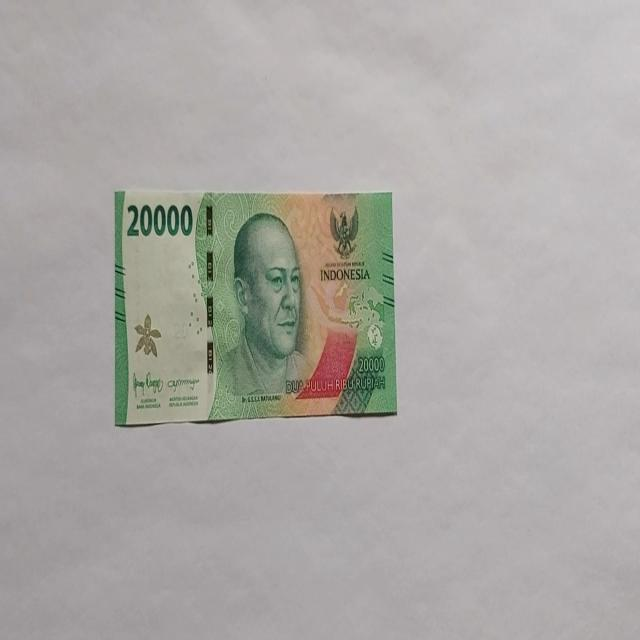dua puluh ribu rupiah: (113, 186, 397, 426), (212, 209, 313, 416)
